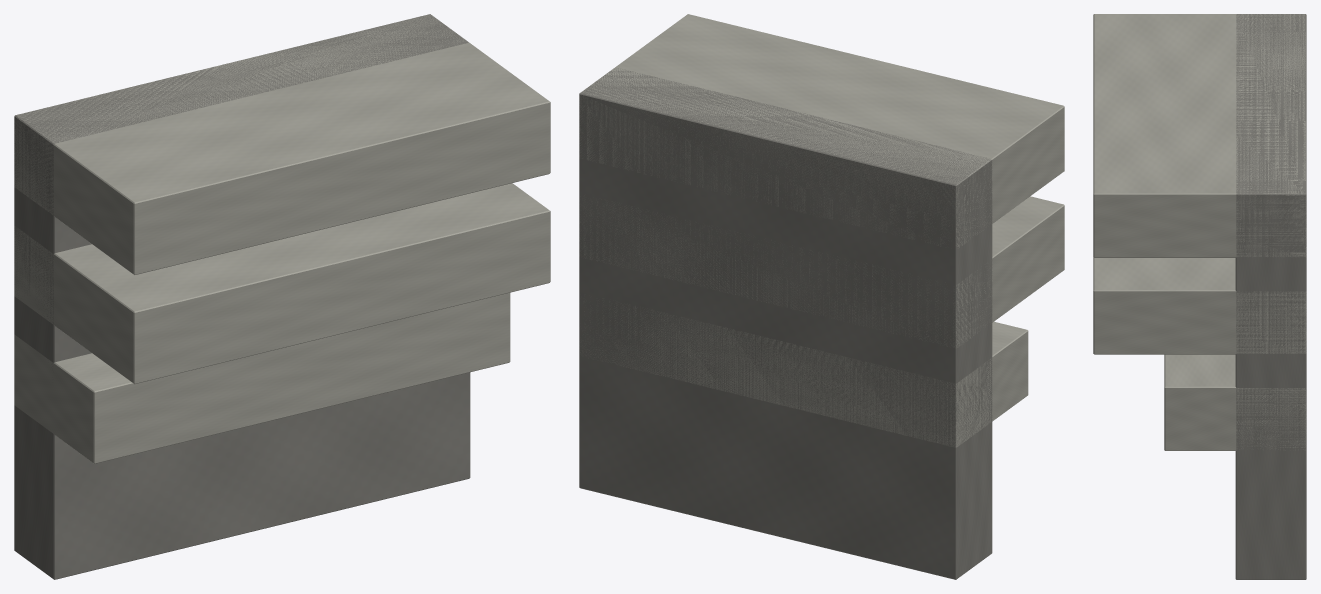
File: U08_SteppedCorbel_visual.glb
3 views of the same model, side by side, from view 1: azimuth 30°, elevation 25°; view 2: azimuth 150°, elevation 25°; view 3: azimuth 270°, elevation 25° (orthographic). The views are drawn at different scales.
Parts seen in each view (by area): view 1: U08_SteppedCorbel__VIS_shell; view 2: U08_SteppedCorbel__VIS_shell; view 3: U08_SteppedCorbel__VIS_shell.
Part boxes in pixels (x1,y1,x2,y2): U08_SteppedCorbel__VIS_shell: (14,14,550,579); U08_SteppedCorbel__VIS_shell: (579,14,1064,579); U08_SteppedCorbel__VIS_shell: (1093,14,1306,579).
Size of the model in its own units: 12 by 12 by 6.
1 material, 1 textured.
